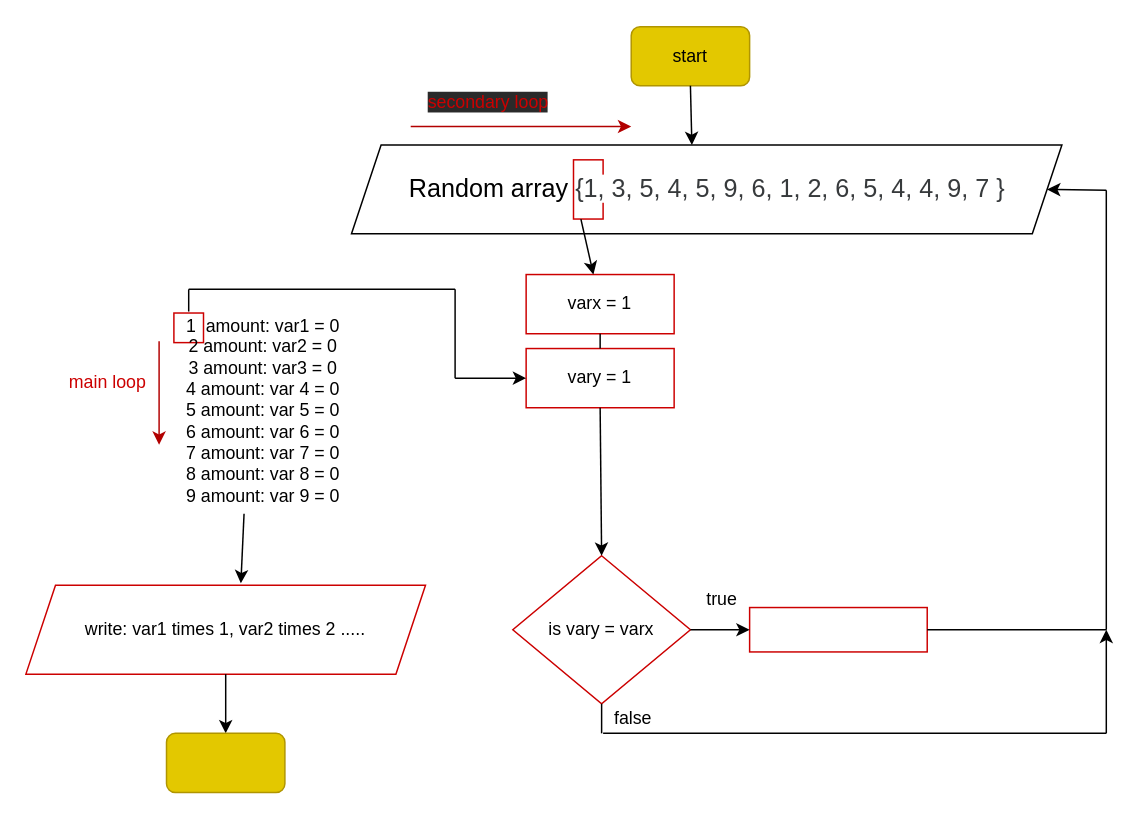
The diagram is 1144 pixels wide and 818 high, and some of its shapes have lost their labels. The centre of each missing label's shape, as x and y in pixels:
end: pixel 225 762
var(vary)+1: pixel 837 629
